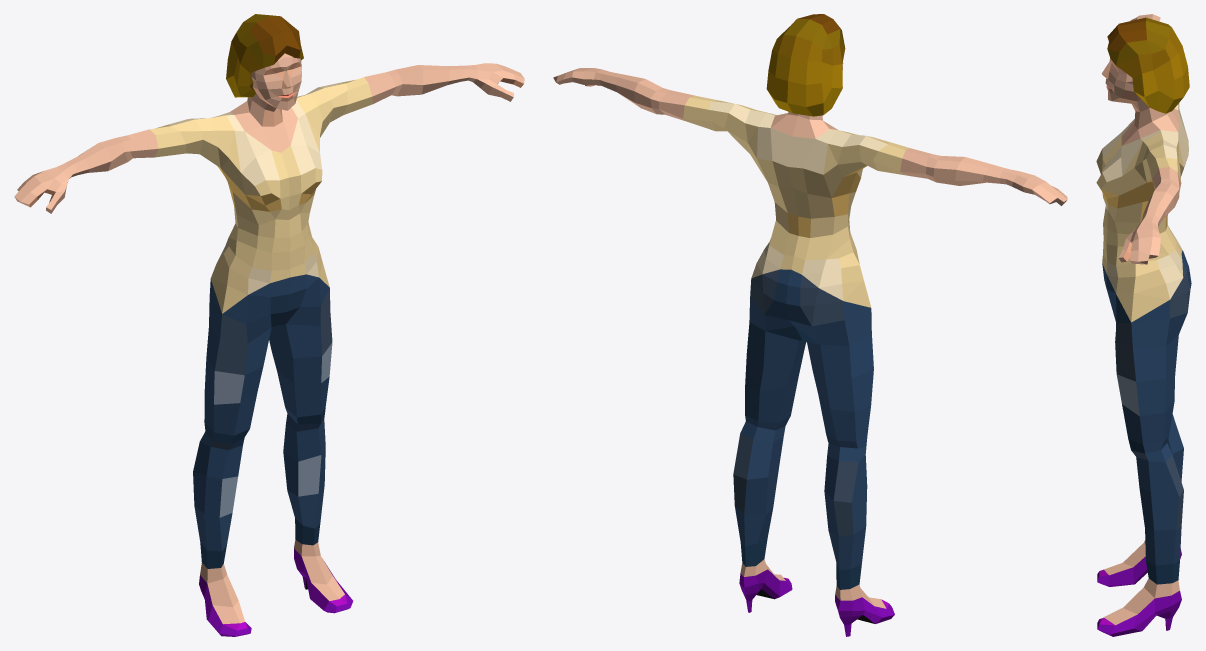
Rendered from casual_Female_G-model.fbx.
The picture shows the model from 3 angles, left to right: view 1: azimuth 30°, elevation 25°; view 2: azimuth 150°, elevation 25°; view 3: azimuth 270°, elevation 25°; orthographic projection.
Visible parts, largest first — view 1: casual_Female_G; view 2: casual_Female_G; view 3: casual_Female_G.
Part boxes in pixels (<box>): casual_Female_G: <box>14,14,524,636</box>; casual_Female_G: <box>553,14,1067,636</box>; casual_Female_G: <box>1096,14,1191,636</box>.
Bounding box in the file's own units: 154 × 172 × 25.34.
Materials: 1 (1 with a texture image).
